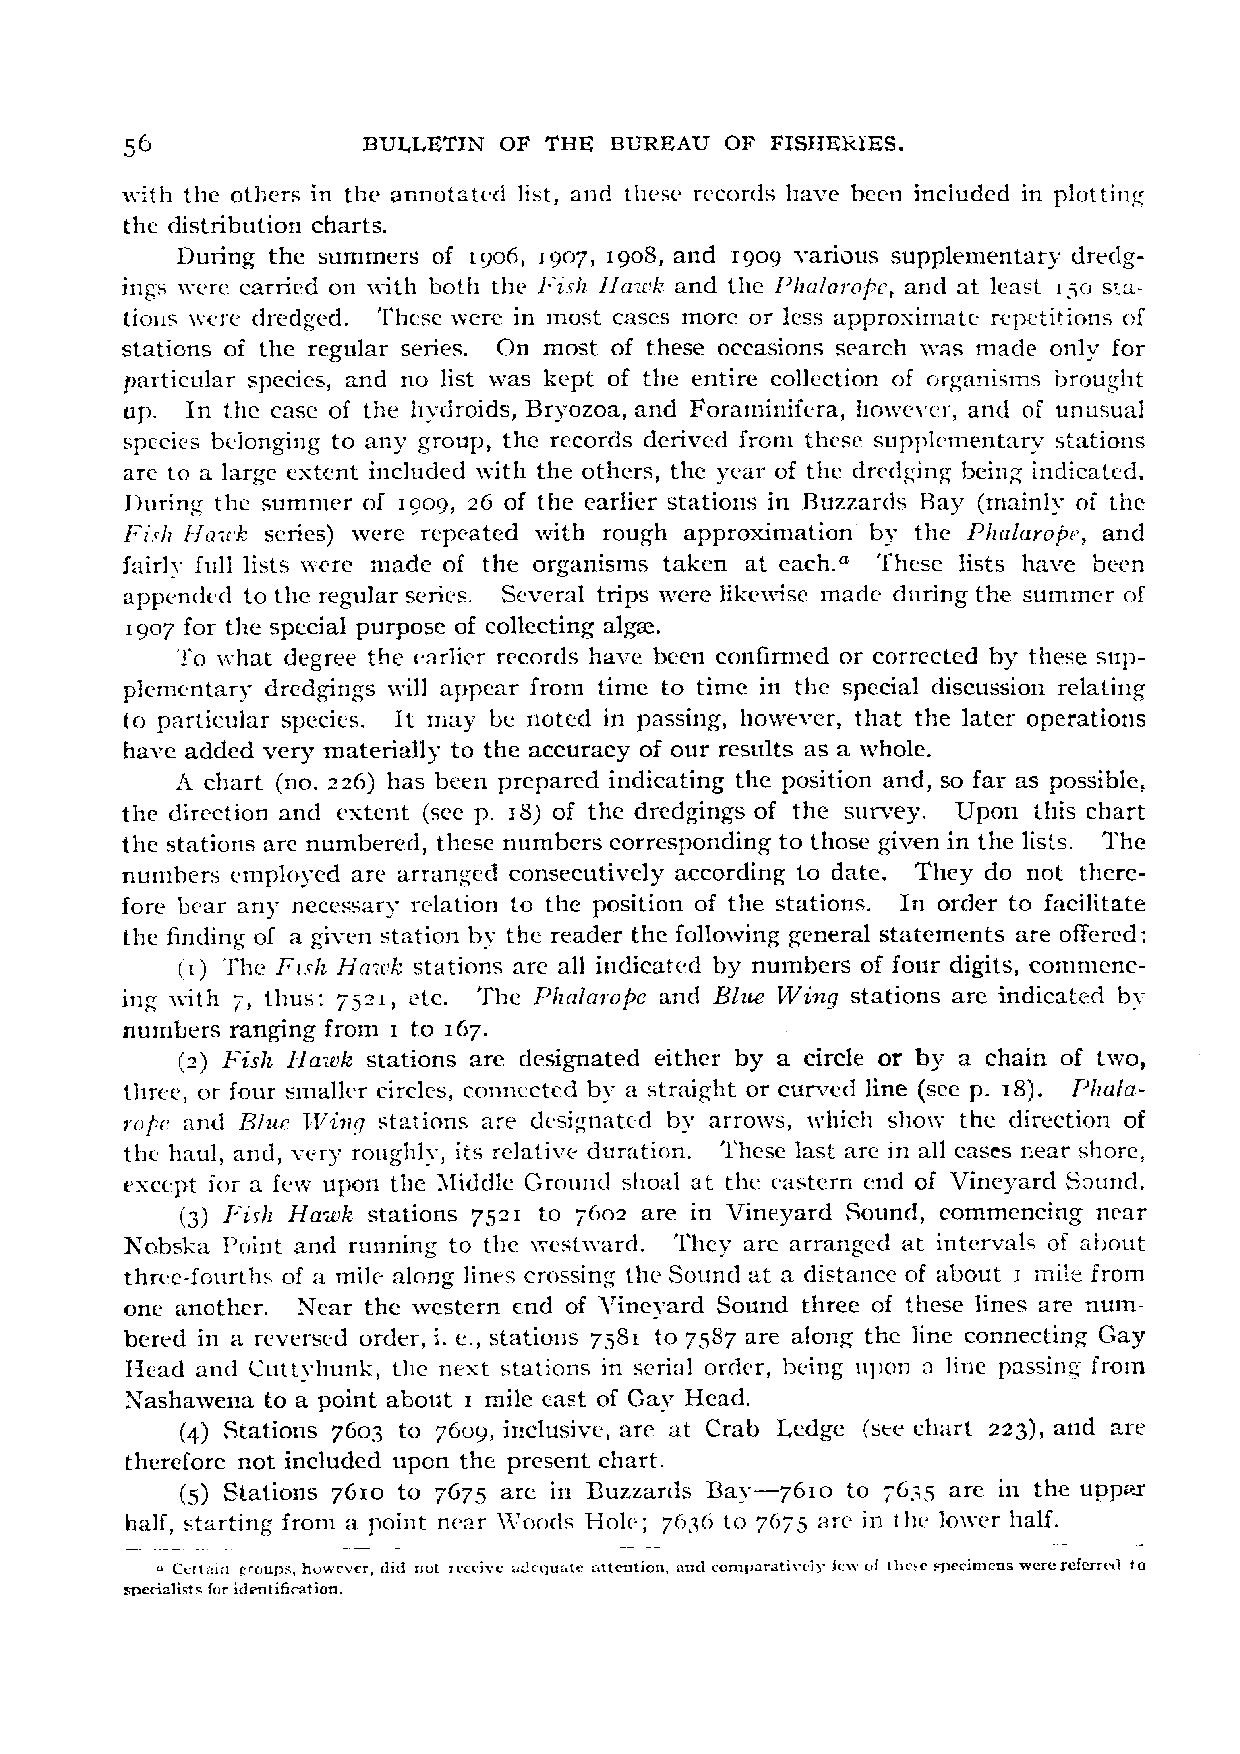content: (119, 183, 1153, 1600)
content_chapter: (356, 133, 905, 156)
content_pagenumber: (119, 127, 153, 158)
